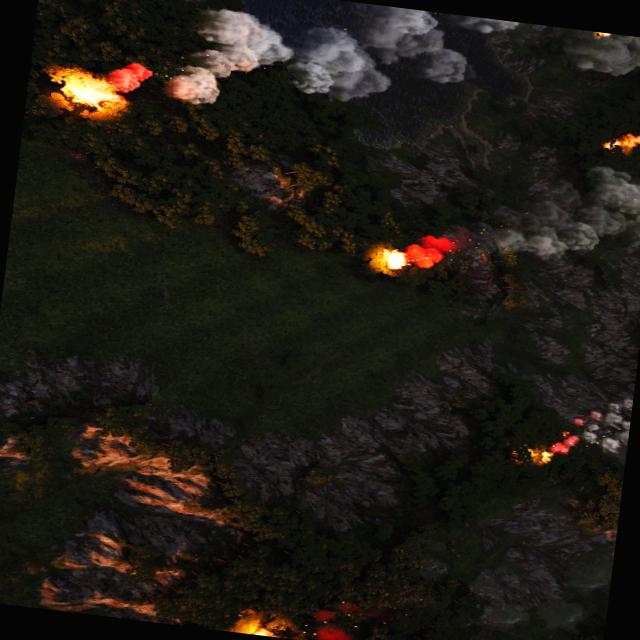fire: (54, 68, 125, 112), (603, 129, 640, 157), (374, 246, 411, 274), (510, 445, 552, 468), (236, 620, 274, 637), (592, 32, 612, 38)
smoke: (113, 0, 545, 146), (400, 143, 640, 294), (548, 387, 632, 464), (285, 596, 389, 640), (564, 28, 640, 80)
